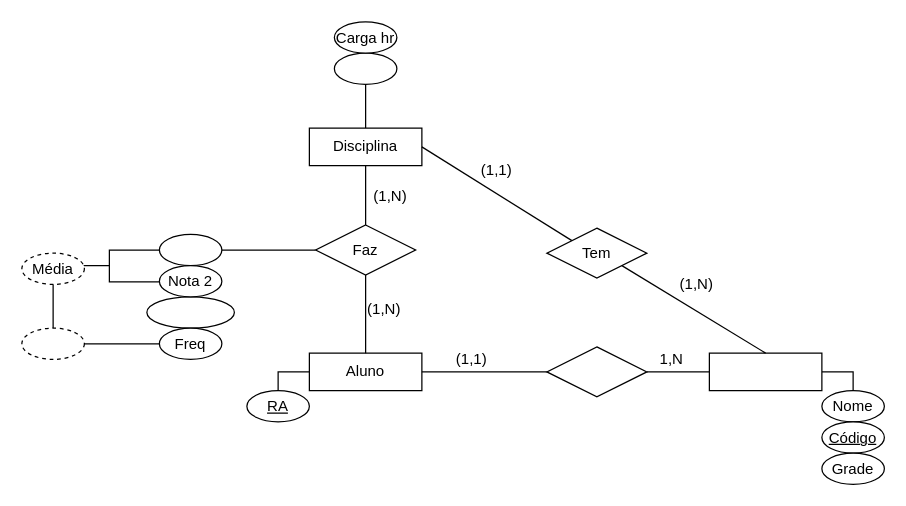
Some shapes in this 906 by 506 pixel diagram are drawn without their labels. The centre of each missing label's shape, as x and y in pixels:
"Curso" goes at point (765, 371).
"Matricula" goes at point (596, 371).
"Nota 1" goes at point (190, 249).
"Sigla" goes at point (365, 68).
"Situação" goes at point (52, 343).
"Substitutiva" goes at point (190, 312).
